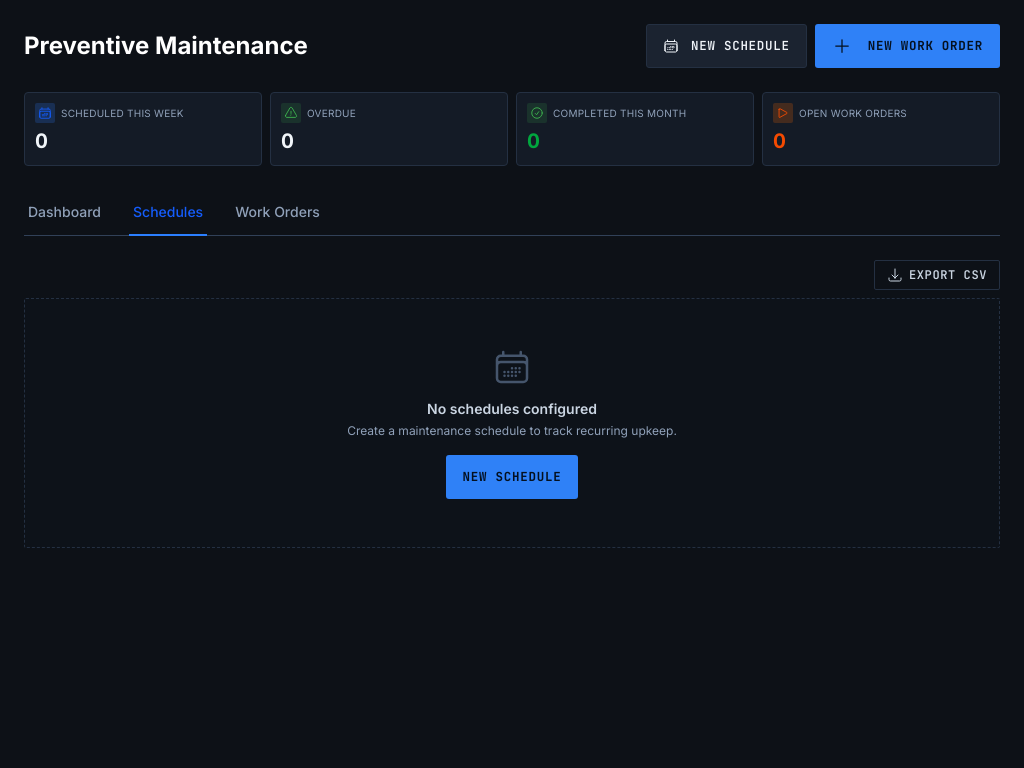
Test: opens the existing New Schedule form from the Upcoming empty panel
This screenshot has width=1024, height=768.
Click the button "dashboard": (64, 213) [24,190,105,236]
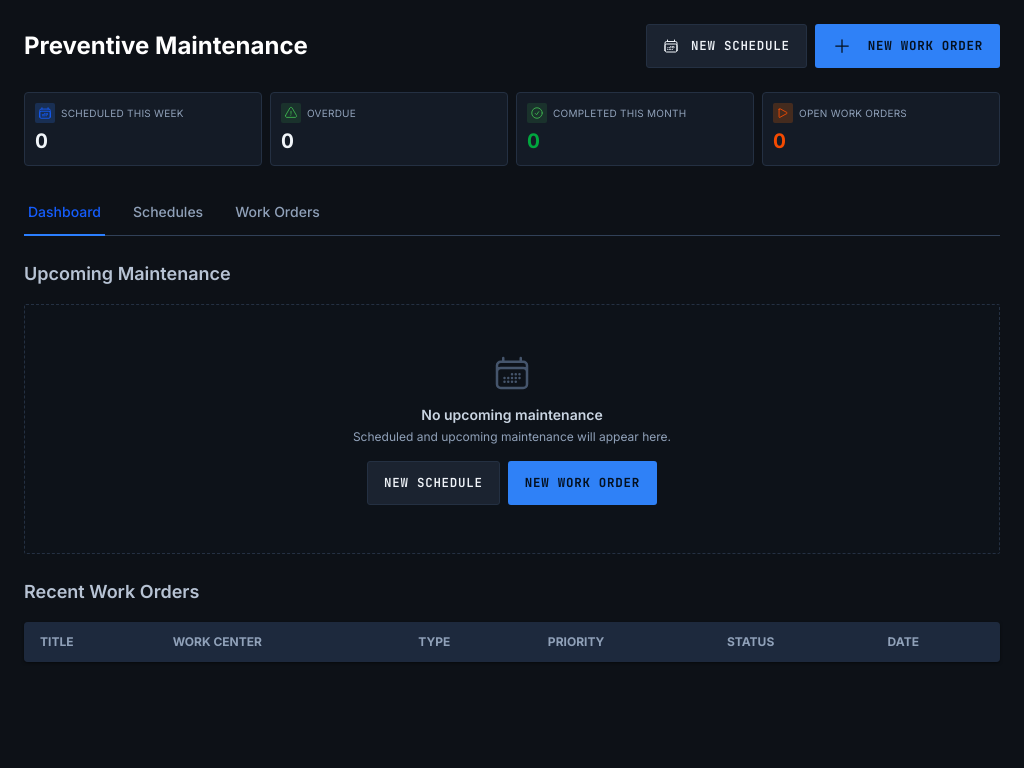
Click the button "New Schedule" below "No upcoming maintenance": (433, 483) [367,461,500,505]
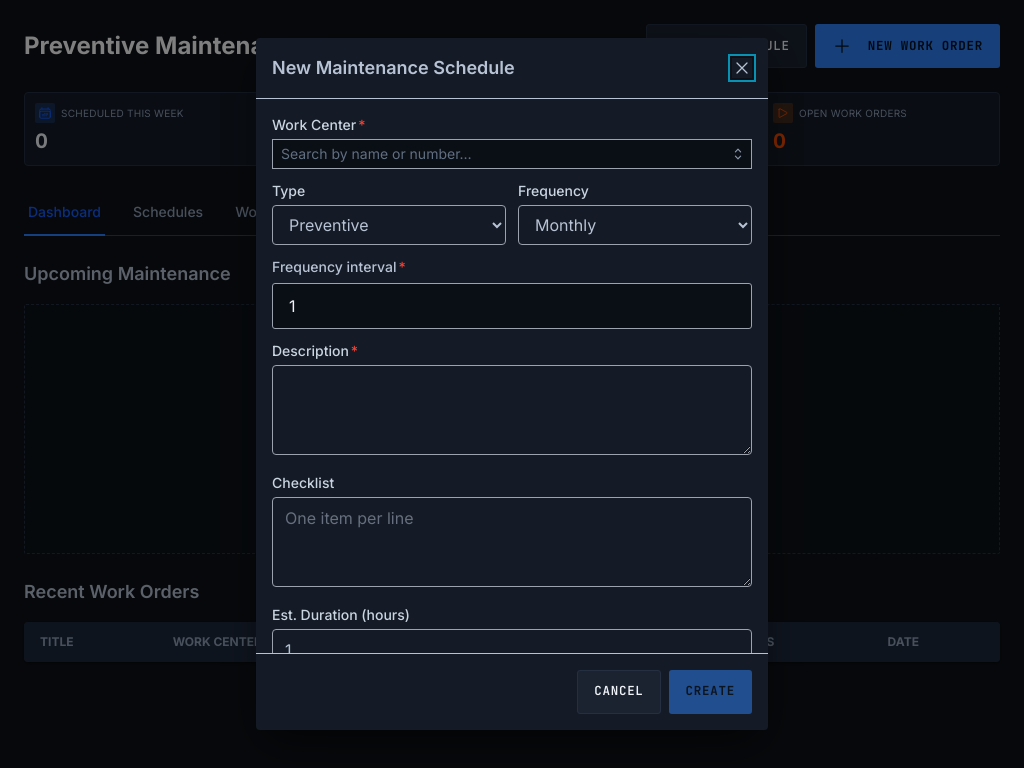
Check: the heading "New Maintenance Schedule" is shown, box [272,54,515,82]
